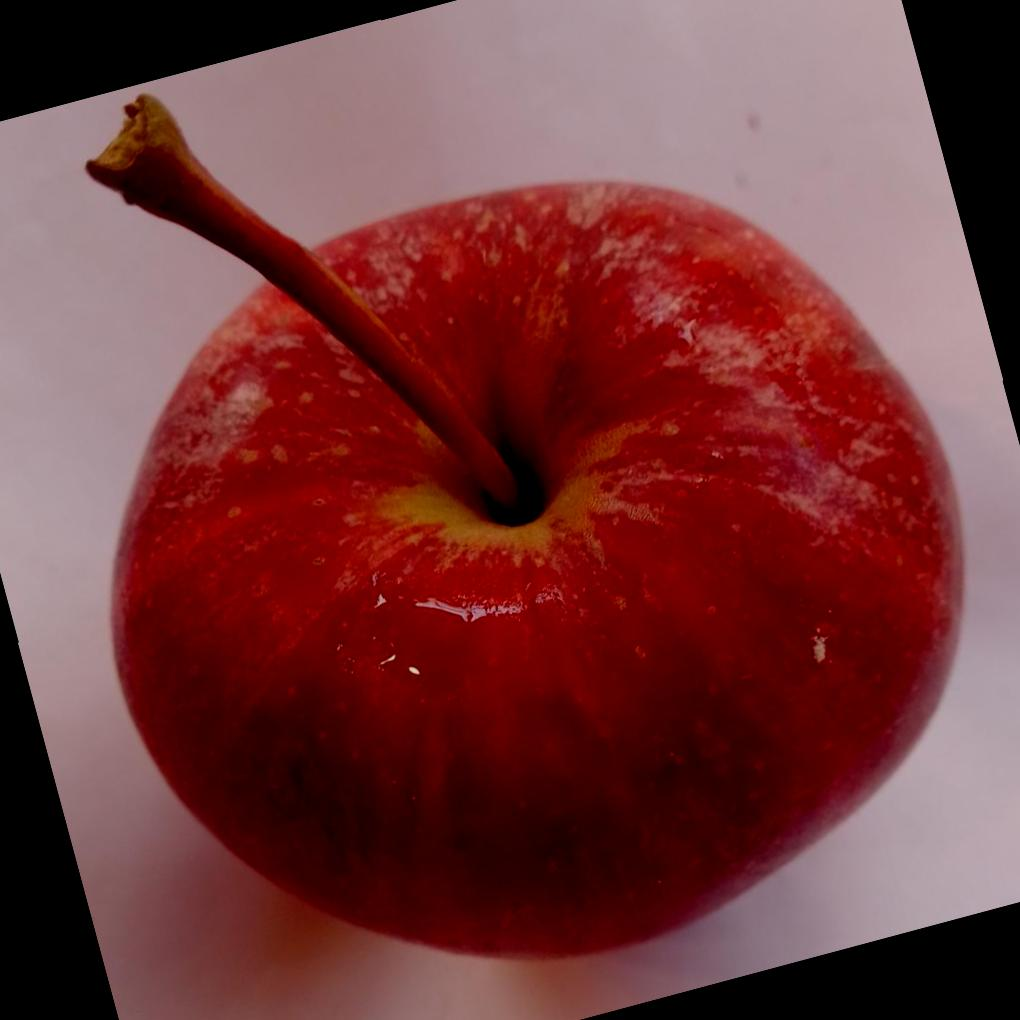FreshGuava: (88, 94, 968, 966)
